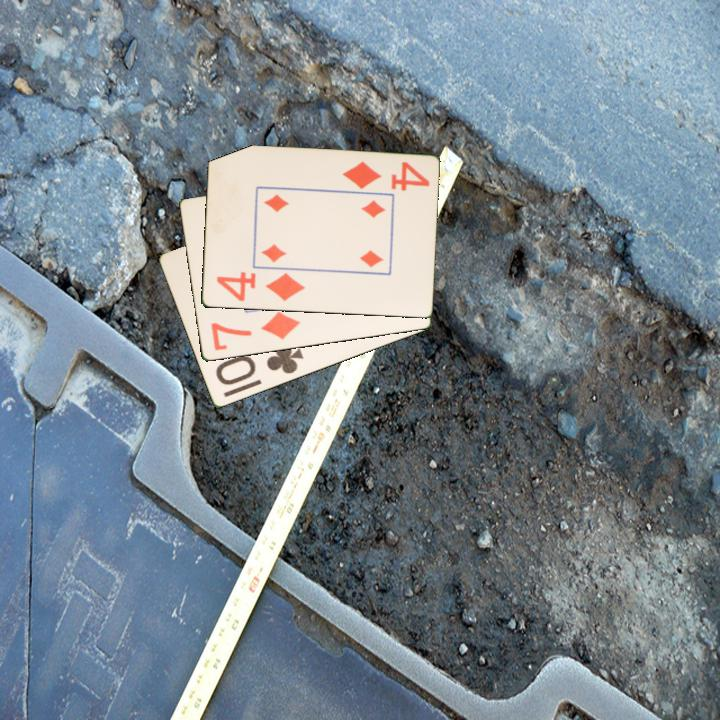10c: (212, 339, 306, 389)
4d: (338, 158, 432, 194), (212, 269, 307, 304)
7d: (207, 308, 303, 354)
